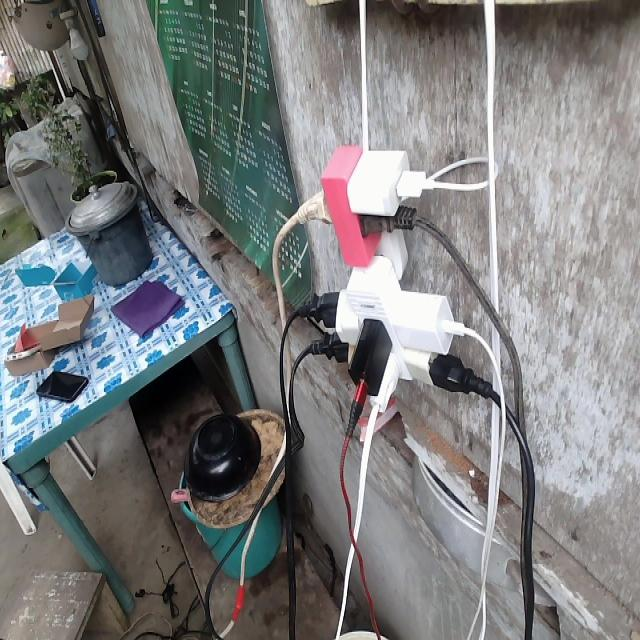-: (296, 144, 498, 421)
